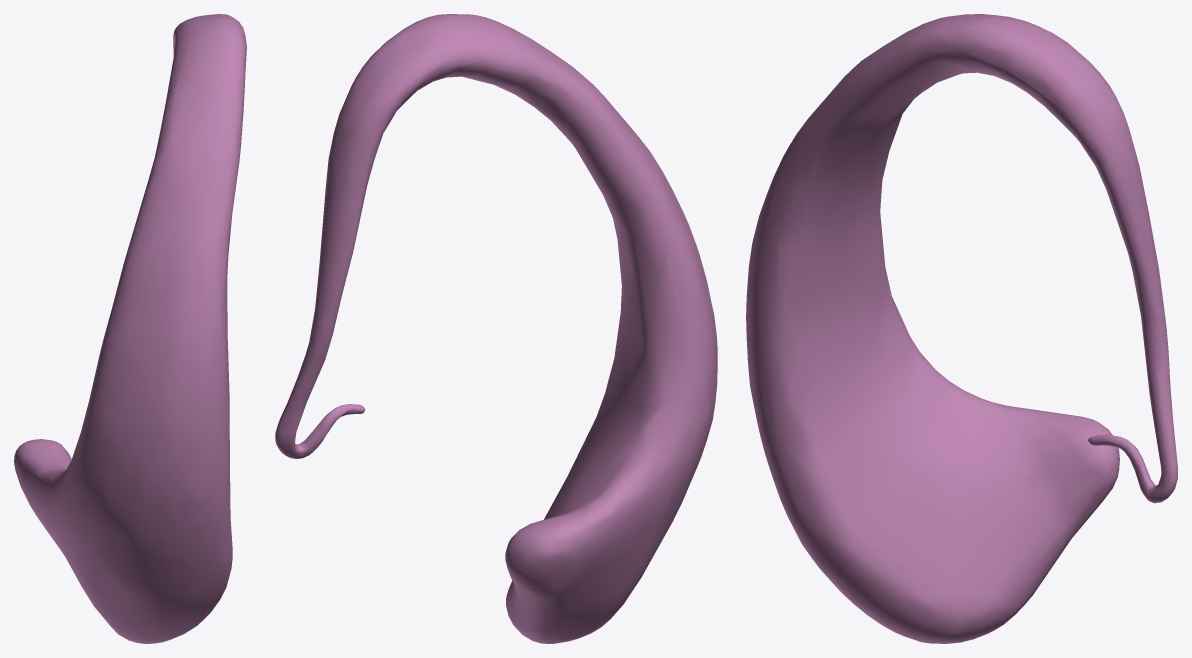
3 renders of one model, left to right at view 1: azimuth 30°, elevation 25°; view 2: azimuth 150°, elevation 25°; view 3: azimuth 270°, elevation 25°, orthographic. The views are drawn at different scales.
Visible parts, largest first — view 1: 左侧尾状核; view 2: 左侧尾状核; view 3: 左侧尾状核.
Boxes of the visible parts, x1,y1,x2,y2 form: 左侧尾状核: (14, 14, 246, 643); 左侧尾状核: (275, 14, 717, 643); 左侧尾状核: (746, 14, 1177, 643).
Bounding box in the file's own units: 0.0455 × 0.0909 × 0.053.
